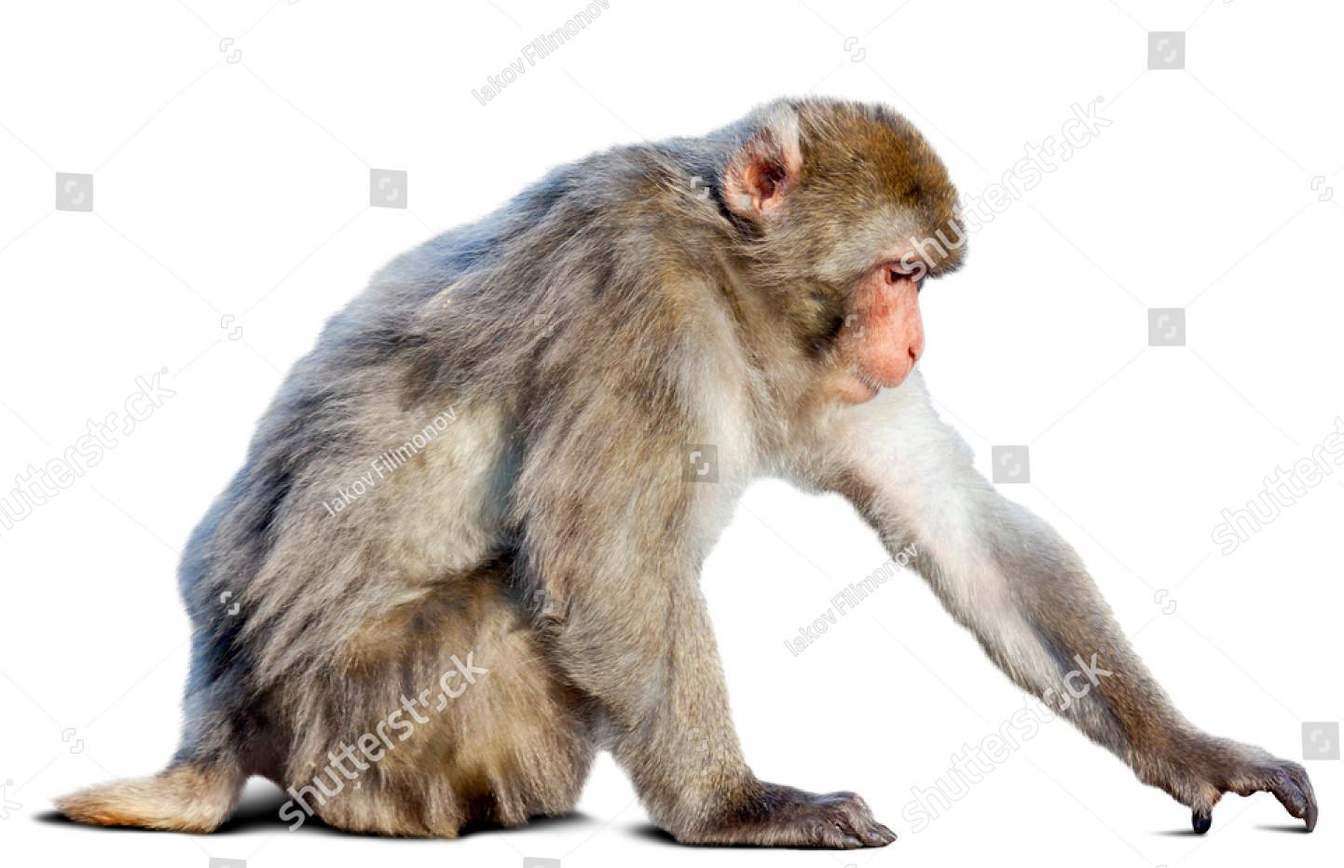monkey: (48, 96, 1322, 852)
